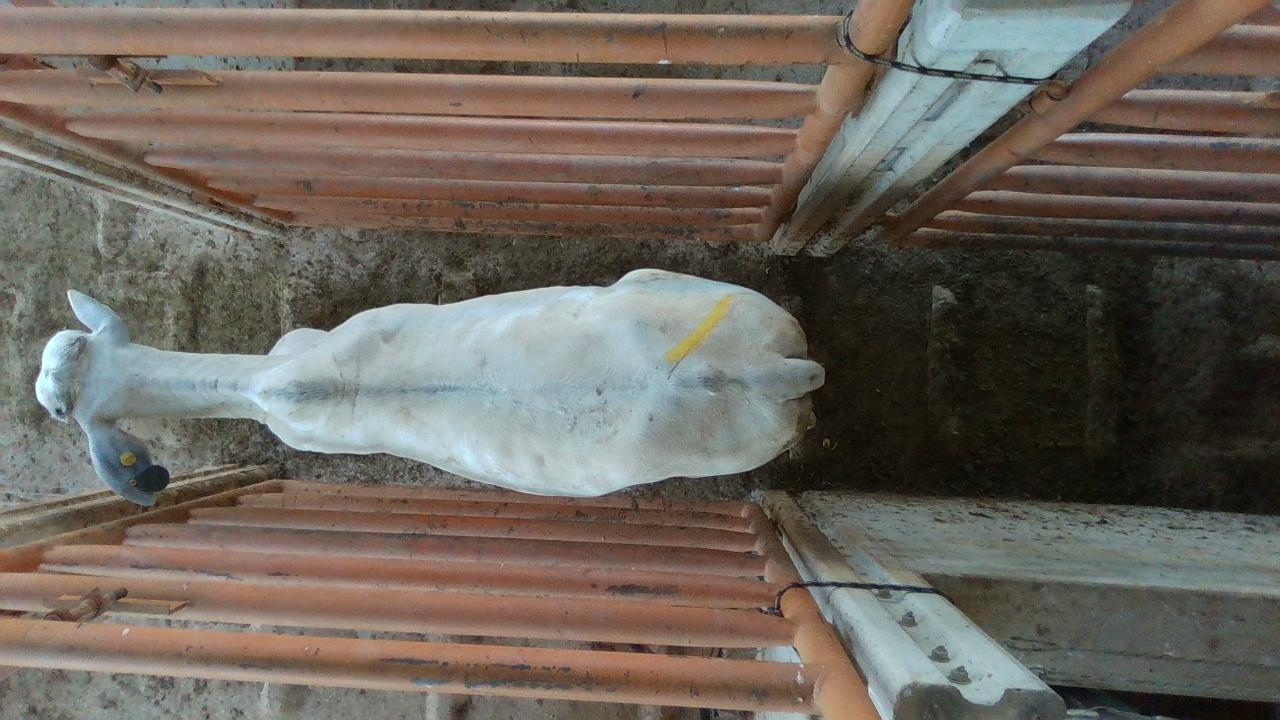cattle: (34, 265, 826, 505)
